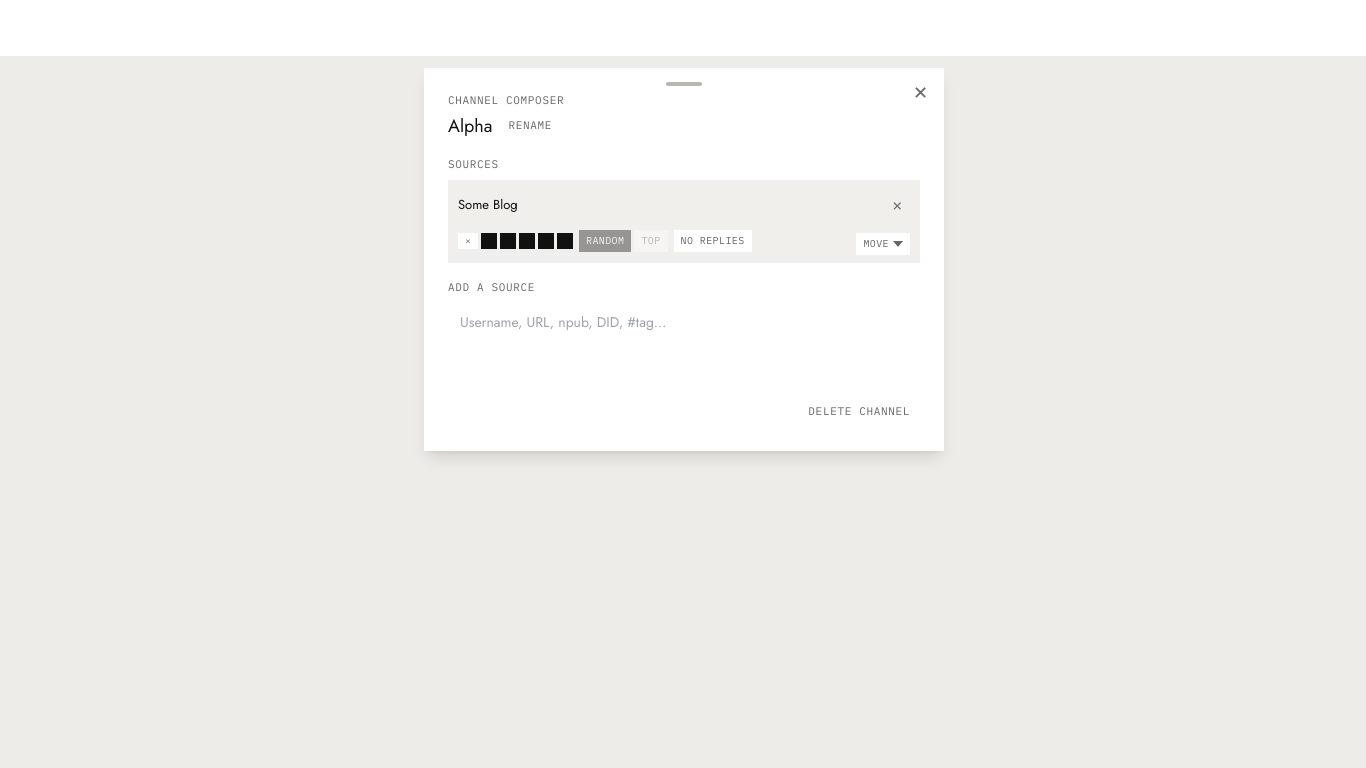
the ⚙ panel's Move (R2) › lists every OTHER feed in the member's order, hidden ones marked
Click the button "Move".
click(883, 244)  # box [856,233,910,255]
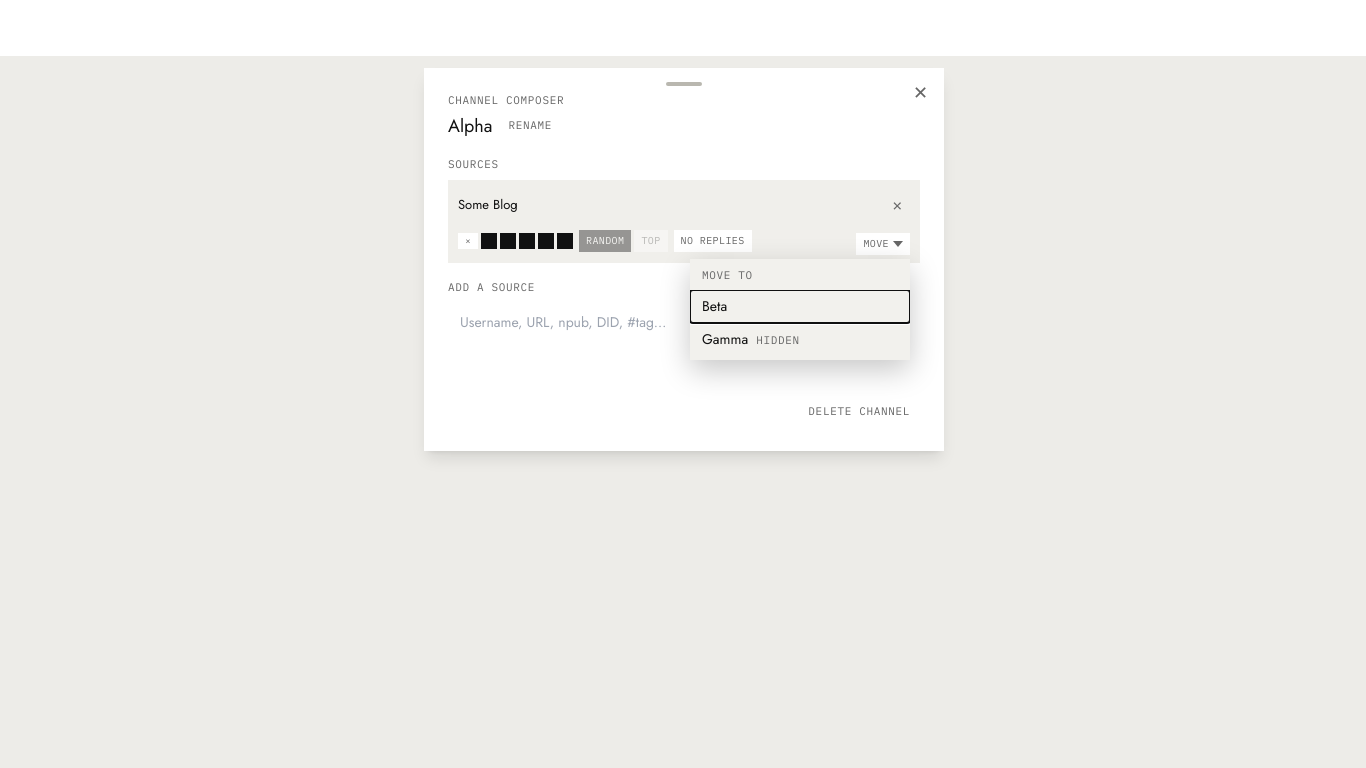
Now the dialog named "Move Some Blog to another channel" is shown, box [690,259,910,360]
